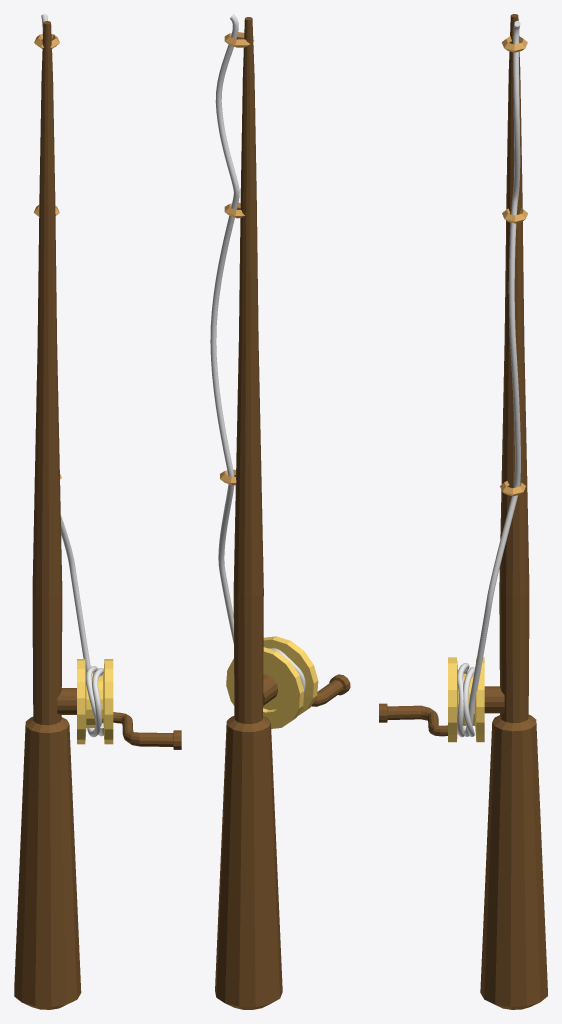
Rendered from fishrod.fbx.
3 views of the same model, side by side, from view 1: azimuth 90°, elevation 25°; view 2: azimuth 150°, elevation 25°; view 3: azimuth 270°, elevation 25° (orthographic).
Parts seen in each view (by area): view 1: fishrod, Cylinder.007, BezierCurve.001; view 2: fishrod, Cylinder.007, BezierCurve.001; view 3: fishrod, BezierCurve.001, Cylinder.007.
Part boxes in pixels (x1,y1,x2,y2): fishrod: (14, 21, 81, 1009); Cylinder.007: (57, 659, 181, 749); BezierCurve.001: (41, 14, 103, 737); fishrod: (215, 17, 282, 1009); Cylinder.007: (226, 636, 350, 728); BezierCurve.001: (210, 14, 305, 692); fishrod: (480, 14, 547, 1009); BezierCurve.001: (457, 21, 520, 737); Cylinder.007: (379, 657, 504, 742).
Bounding box in the file's own units: 14.78 × 177 × 27.38.
